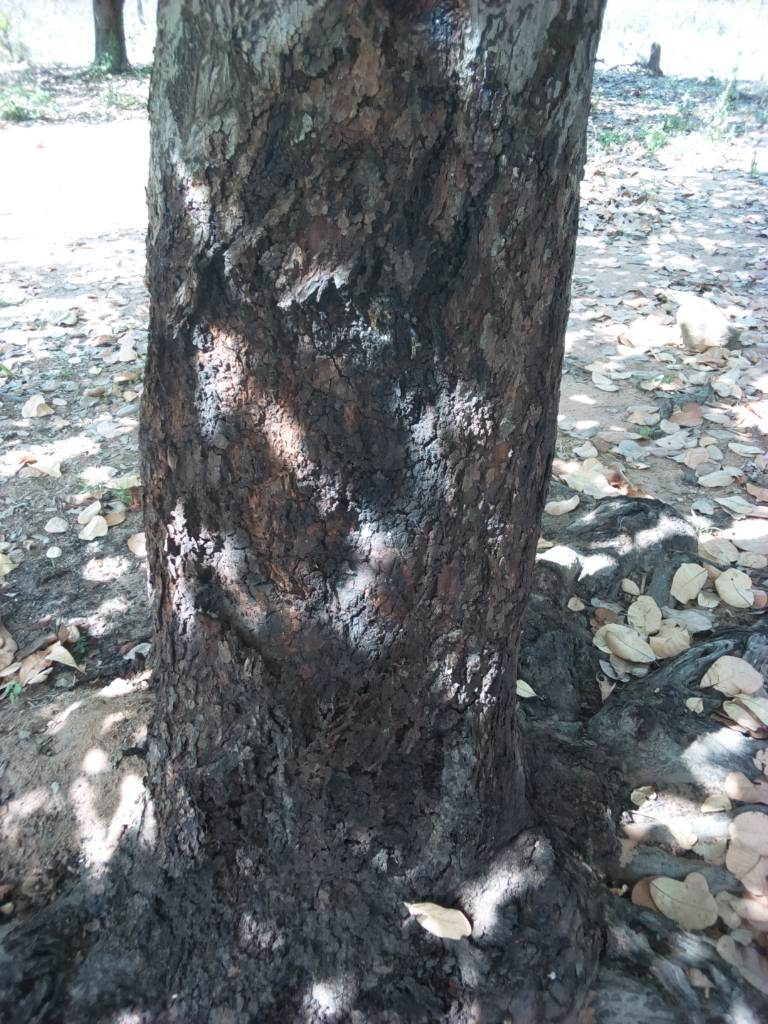Termites: (150, 71, 554, 872)
